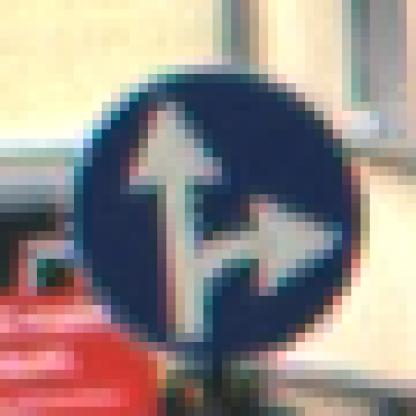Straight or Right: (56, 56, 371, 371)
